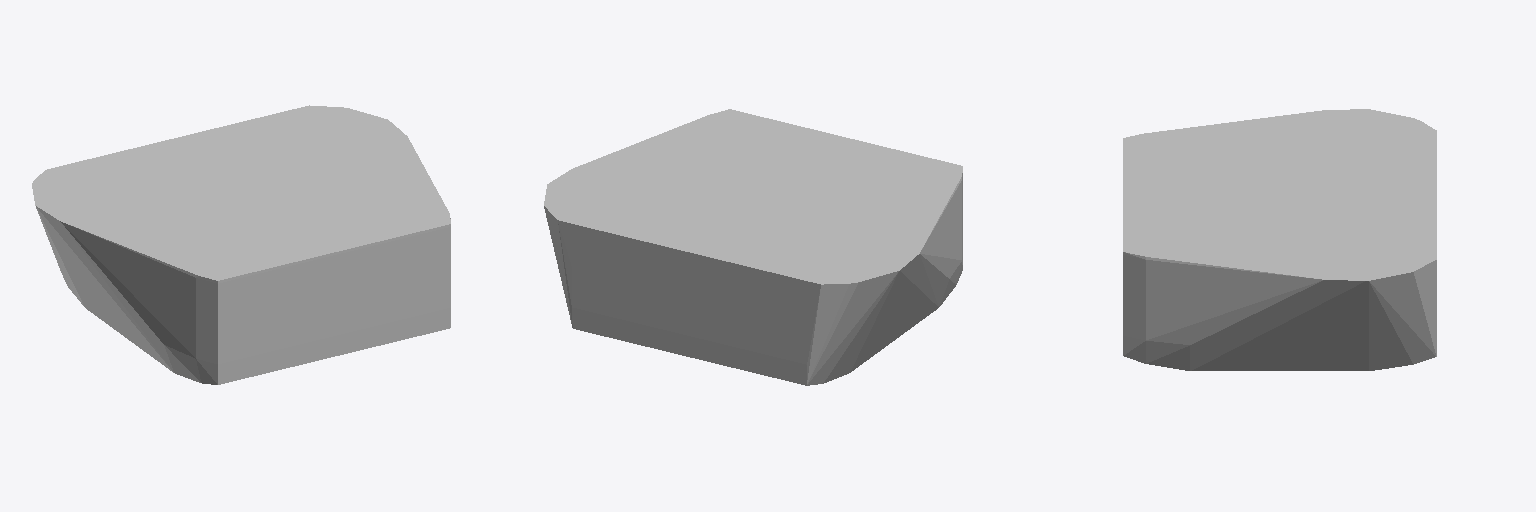
Rendered from Cart_outer_skeleton_collision_22.obj.
3 renders of one model, left to right at view 1: azimuth 30°, elevation 25°; view 2: azimuth 150°, elevation 25°; view 3: azimuth 270°, elevation 25°, orthographic.
Size of the model in its own units: 0.0763 by 0.0252 by 0.0589.